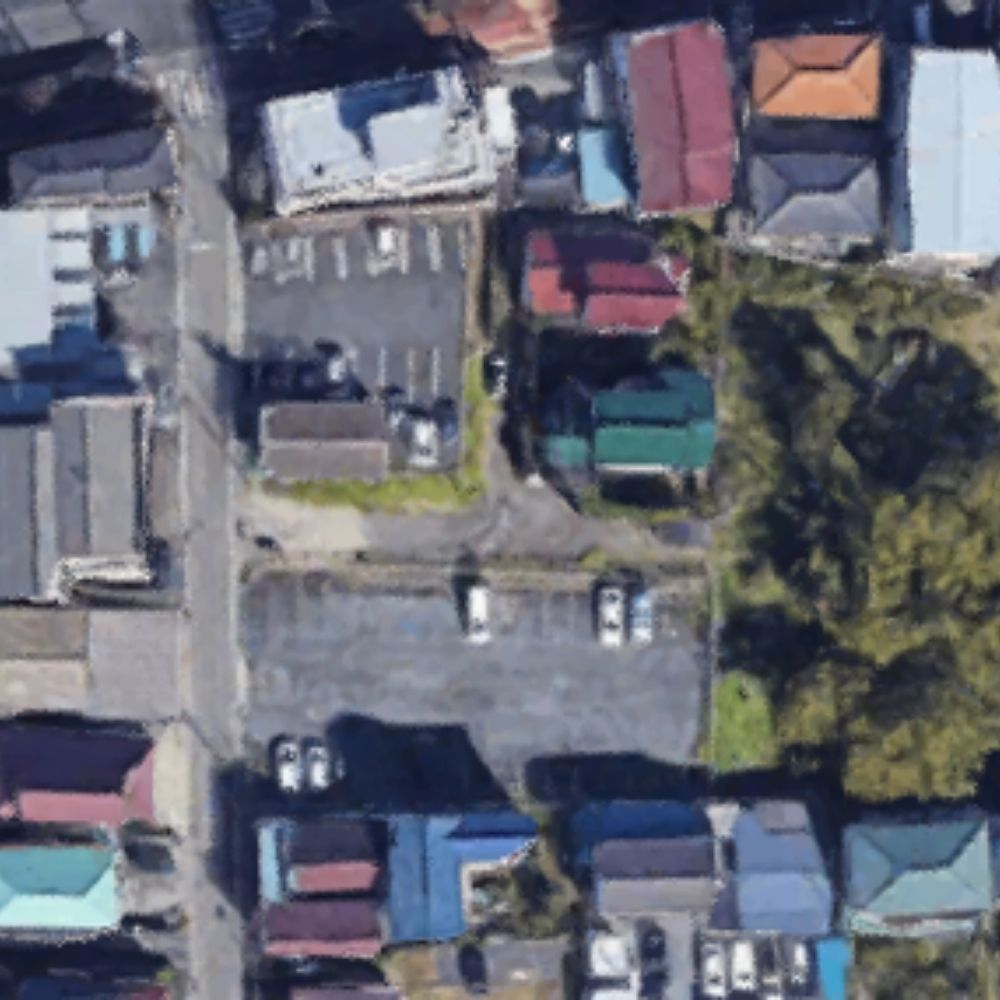parking: (245, 570, 705, 795), (245, 215, 460, 475)
